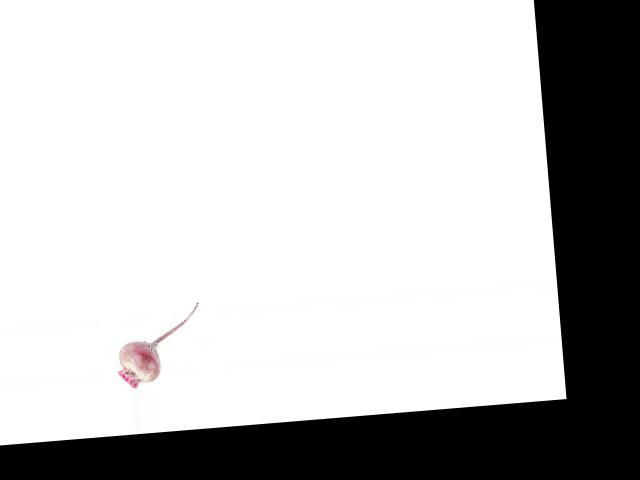beet: (113, 302, 205, 390)
